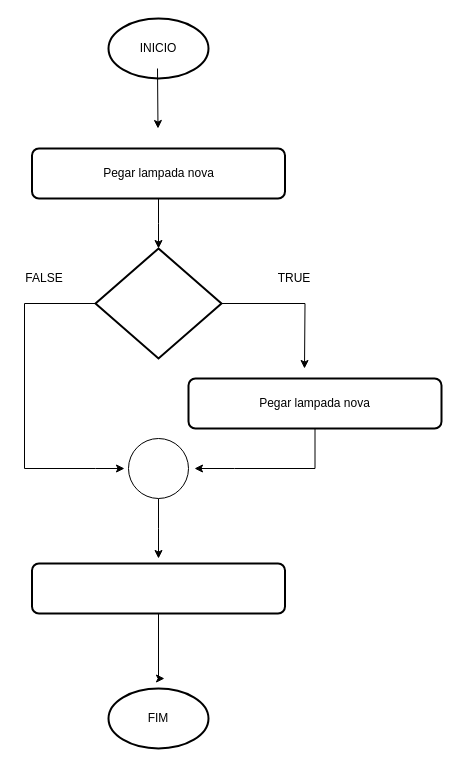
The diagram is 460 pixels wide and 766 high, and some of its shapes have lost their labels. Here are the shapes that lost their labels. From the top down, the centre of each, then its label:
point (158, 303): lampada queimada está no bulbo
point (158, 588): Coloco a lampada nova no bulbo
